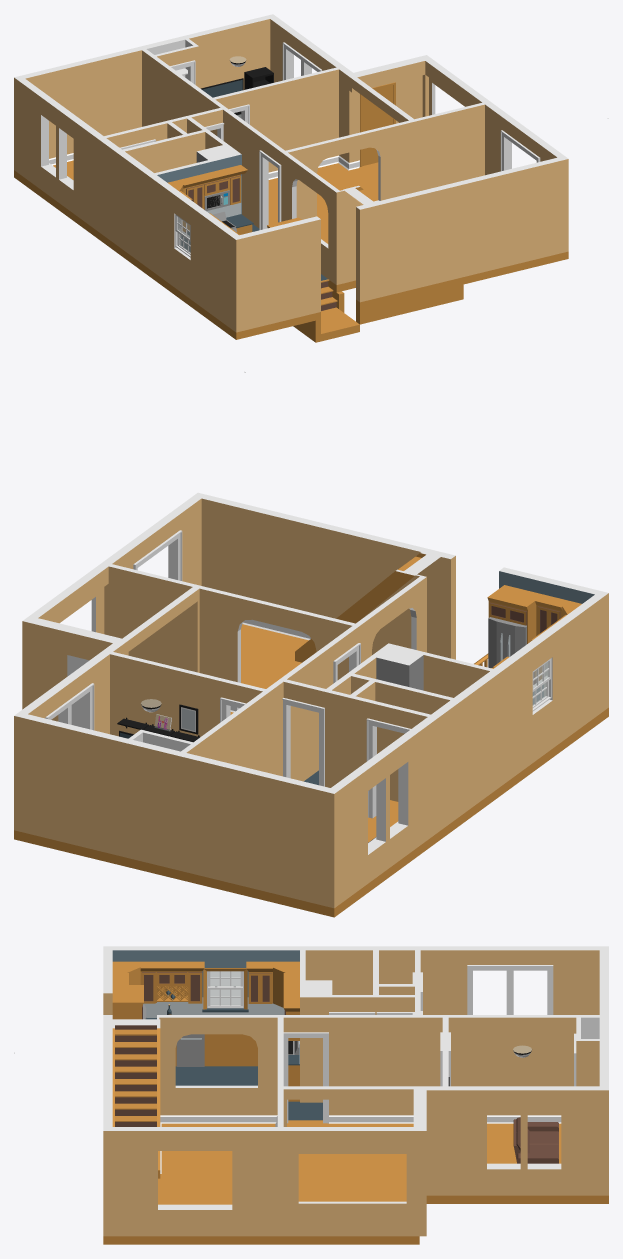
Rendered from 室內場景.glb.
The picture shows the model from 3 angles, top to bottom: view 1: azimuth 30°, elevation 25°; view 2: azimuth 150°, elevation 25°; view 3: azimuth 270°, elevation 25°; orthographic projection. The views are drawn at different scales.
Parts seen in each view (by area): view 1: group1278426877; view 2: group1278426877; view 3: group1278426877, group1727044876.
Part boxes in pixels (box(x1,y1,x2,y2)): group1278426877: box(14, 14, 608, 342); group1278426877: box(14, 371, 608, 917); group1278426877: box(14, 946, 608, 1244); group1727044876: box(210, 971, 531, 1053).
Size of the model in its own units: 3.77 by 2.07 by 5.12.
Materials: 2 (2 with a texture image).
